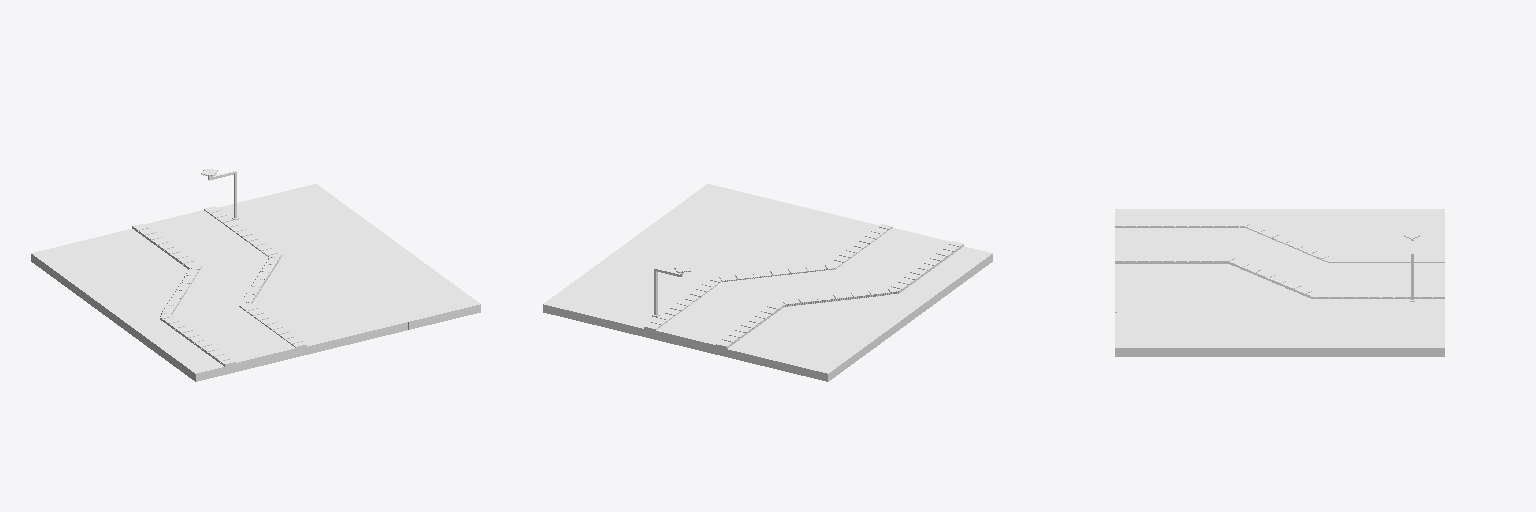
Rendered from roadLine4.obj.
The picture shows the model from 3 angles: view 1: azimuth 30°, elevation 25°; view 2: azimuth 150°, elevation 25°; view 3: azimuth 270°, elevation 25°; orthographic projection.
Parts seen in each view (by area): view 1: object 1; view 2: object 1; view 3: object 1.
Part boxes in pixels (x1,y1,x2,y2): object 1: (31, 169, 480, 381); object 1: (543, 184, 992, 381); object 1: (1115, 209, 1444, 356).
Size of the model in its own units: 25.6 by 5.3 by 25.6.